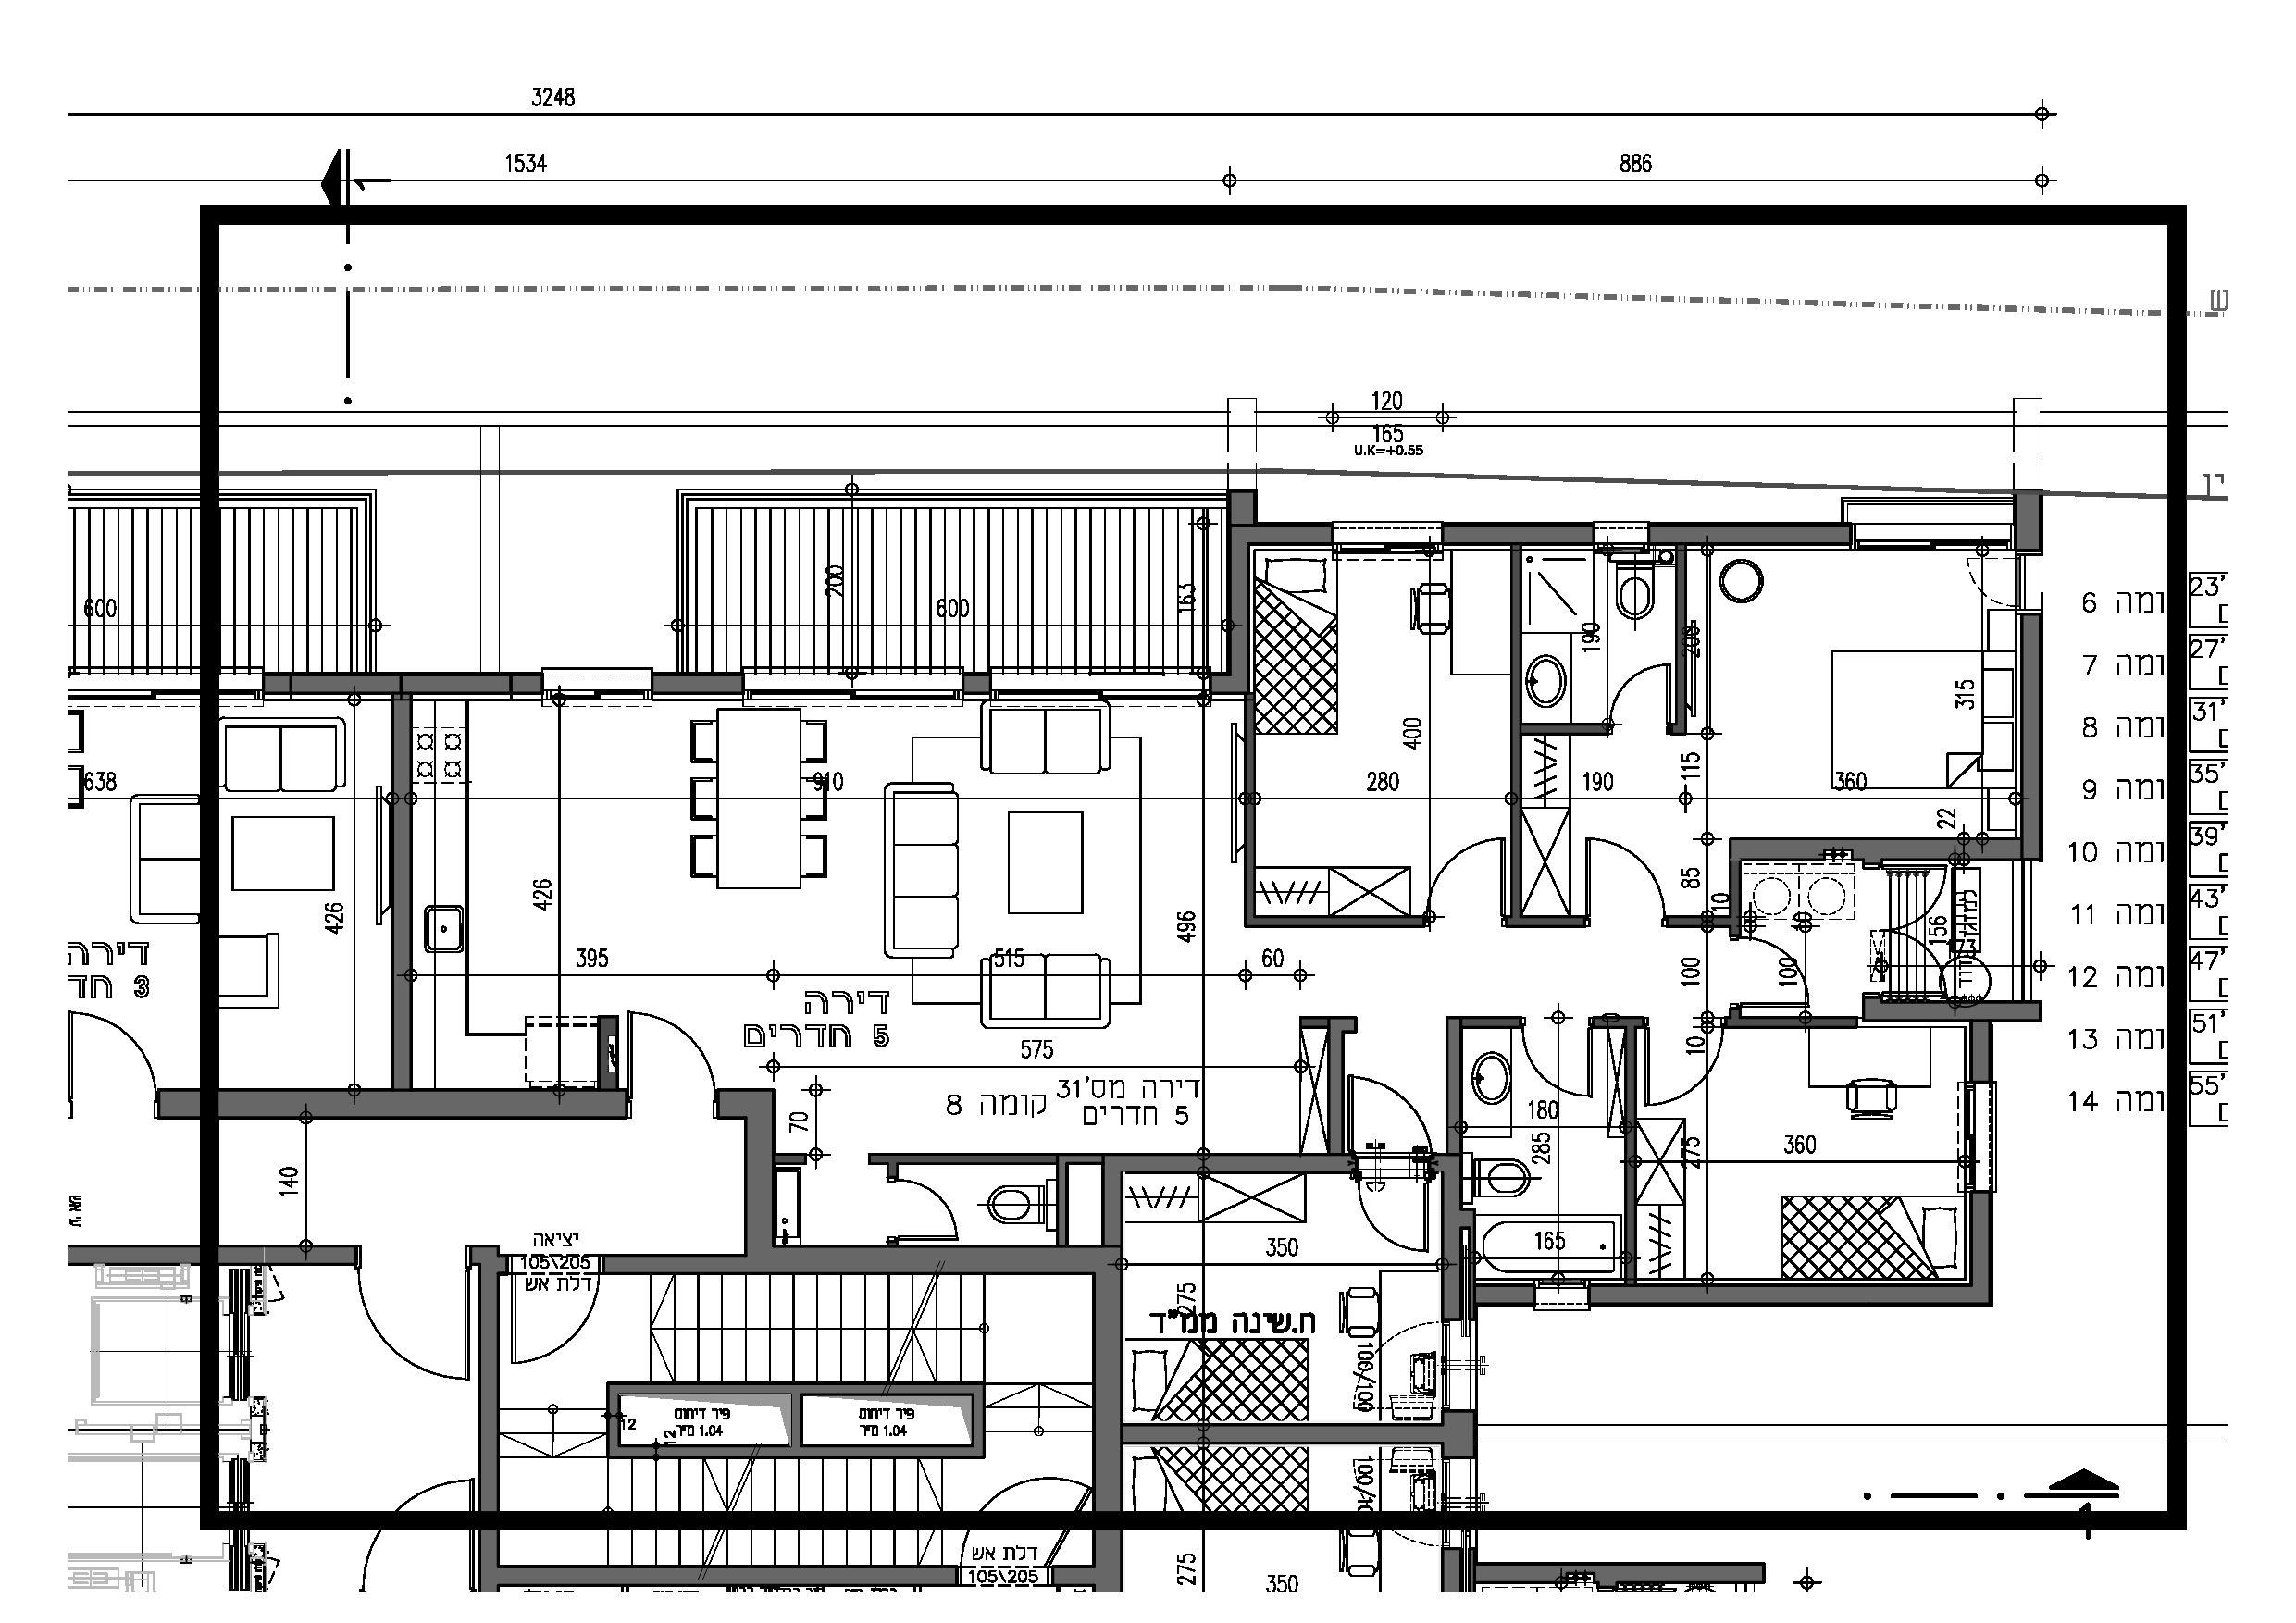door: (341, 1268, 474, 1402), (341, 1270, 474, 1402), (339, 1268, 473, 1400), (343, 1266, 476, 1398), (37, 1003, 165, 1078), (1346, 1068, 1432, 1147), (624, 1001, 710, 1080), (506, 1289, 592, 1368), (1581, 827, 1658, 910), (1342, 1189, 1435, 1258), (1516, 1036, 1600, 1101), (1643, 1038, 1718, 1108), (1440, 831, 1507, 910), (1616, 659, 1672, 722)
wall: (262, 1512, 2180, 1528), (251, 206, 2170, 221), (2170, 213, 2184, 1482), (202, 295, 214, 1521), (757, 1249, 1101, 1268), (1100, 1273, 1119, 1511), (1599, 1291, 1982, 1302), (378, 1094, 552, 1115), (748, 1096, 769, 1265), (1869, 1006, 2031, 1017), (1976, 1193, 1987, 1302)
window: (741, 667, 964, 717), (991, 667, 1216, 708), (543, 660, 655, 715), (1330, 515, 1442, 567)
